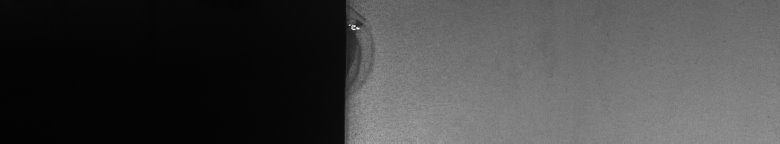hb: (356, 8, 383, 91)
